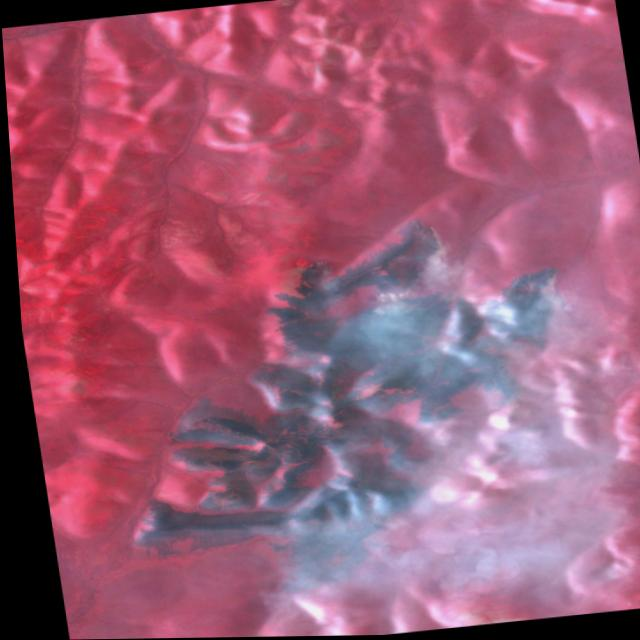fire: (466, 245, 588, 361), (352, 211, 460, 309)
